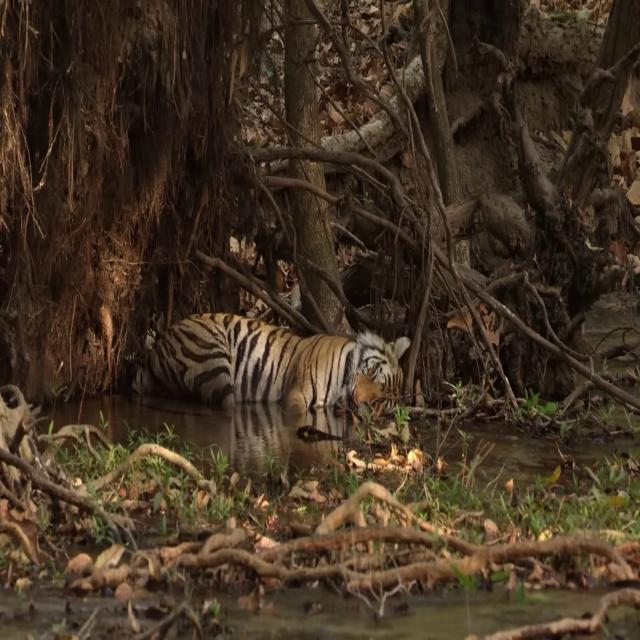tiger: (129, 310, 413, 432)
